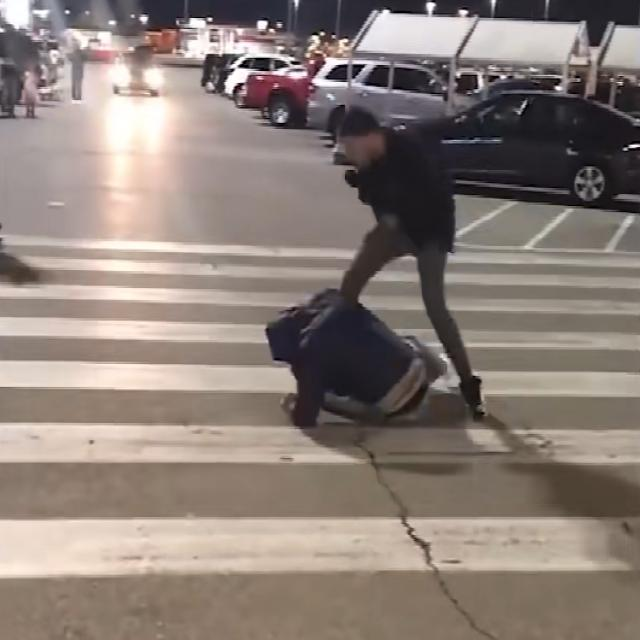nofight: (328, 104, 508, 421), (251, 287, 464, 456)
